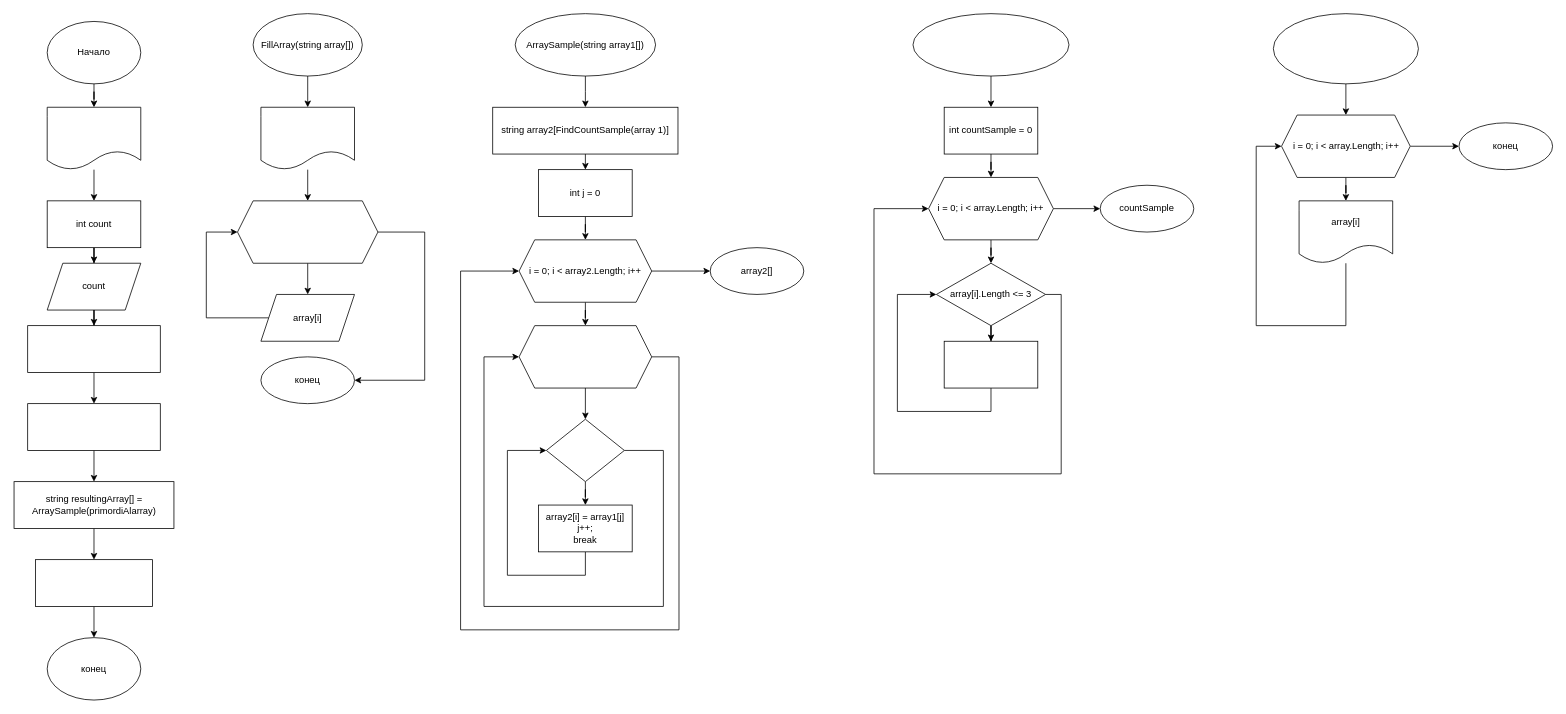
The diagram is 1566 pixels wide and 714 high, and some of its shapes have lost their labels. Here are the shapes that lost their labels. From the top down, the centre of each, then its label:
At (x=990, y=44): "FindCountSample(string array[])".
At (x=1345, y=48): "PrintArray(string array[])".
At (x=93, y=138): "Введите размер массива".
At (x=307, y=138): "Введите элементы массива через enter".
At (x=307, y=231): "for(i = 0; i < array.Lengh; i++".
At (x=93, y=348): "string primordiAlarray[count]".
At (x=585, y=356): "; j < array1.Length; j++".
At (x=990, y=364): "countSample++".
At (x=93, y=426): "FillArray(primordiAlarray)".
At (x=585, y=450): "array1[j] <= 3".
At (x=93, y=582): "PrintArray(resultingArray)".
